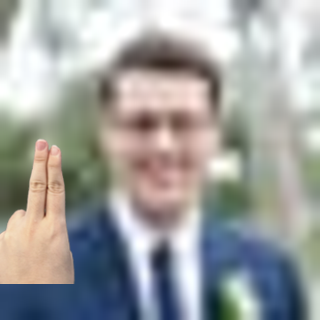DHAVE: (1, 134, 78, 285)
